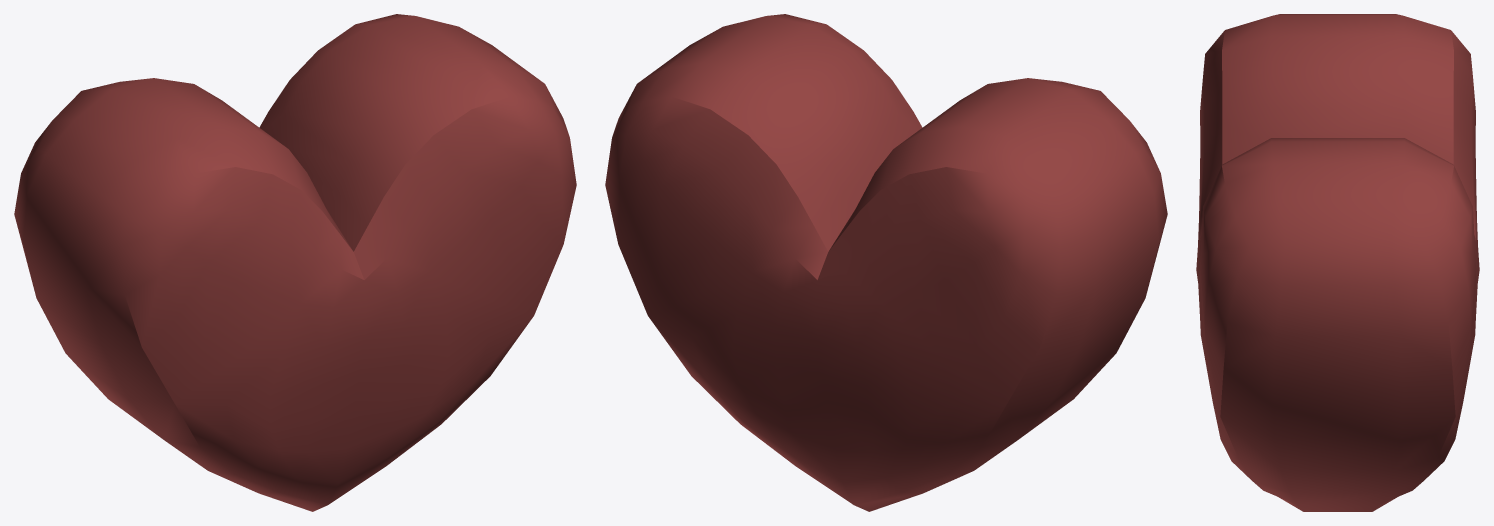
File: Heart.glb
3 renders of one model, left to right at view 1: azimuth 30°, elevation 25°; view 2: azimuth 150°, elevation 25°; view 3: azimuth 270°, elevation 25°, orthographic.
Visible parts, largest first — view 1: Heart; view 2: Heart; view 3: Heart.
Part boxes in pixels (left/top/right/bottom): Heart: left=14, top=14, right=576, bottom=511; Heart: left=605, top=14, right=1167, bottom=511; Heart: left=1196, top=14, right=1479, bottom=511.
Size of the model in its own units: 1.48 by 1.24 by 0.7542.
